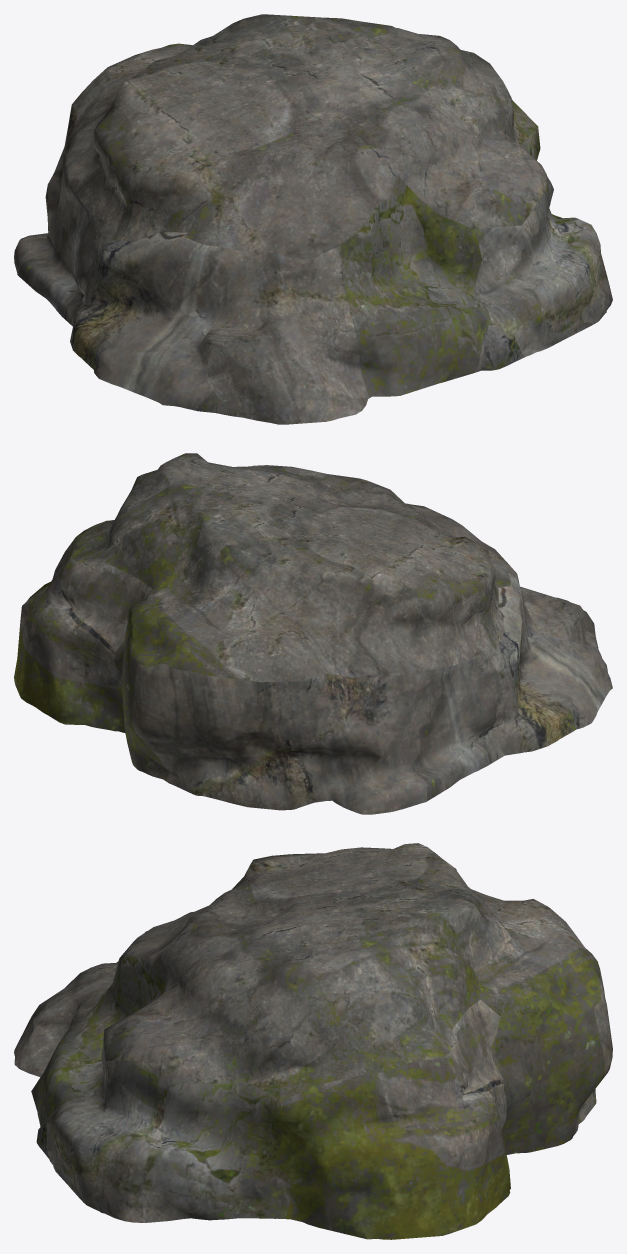
Rendered from Rock13.fbx.
The picture shows the model from 3 angles, top to bottom: view 1: azimuth 30°, elevation 25°; view 2: azimuth 150°, elevation 25°; view 3: azimuth 270°, elevation 25°; orthographic projection. The views are drawn at different scales.
Visible parts, largest first — view 1: LV_Campagna_Rock_Big03A_SM_EYE; view 2: LV_Campagna_Rock_Big03A_SM_EYE; view 3: LV_Campagna_Rock_Big03A_SM_EYE.
Boxes of the visible parts, x1=… form: LV_Campagna_Rock_Big03A_SM_EYE: x1=14, y1=14, x2=612, y2=424; LV_Campagna_Rock_Big03A_SM_EYE: x1=14, y1=453, x2=612, y2=814; LV_Campagna_Rock_Big03A_SM_EYE: x1=14, y1=843, x2=612, y2=1239.
Bounding box in the file's own units: 7.77 × 3.2 × 7.74.
Materials: 1 (1 with a texture image).
